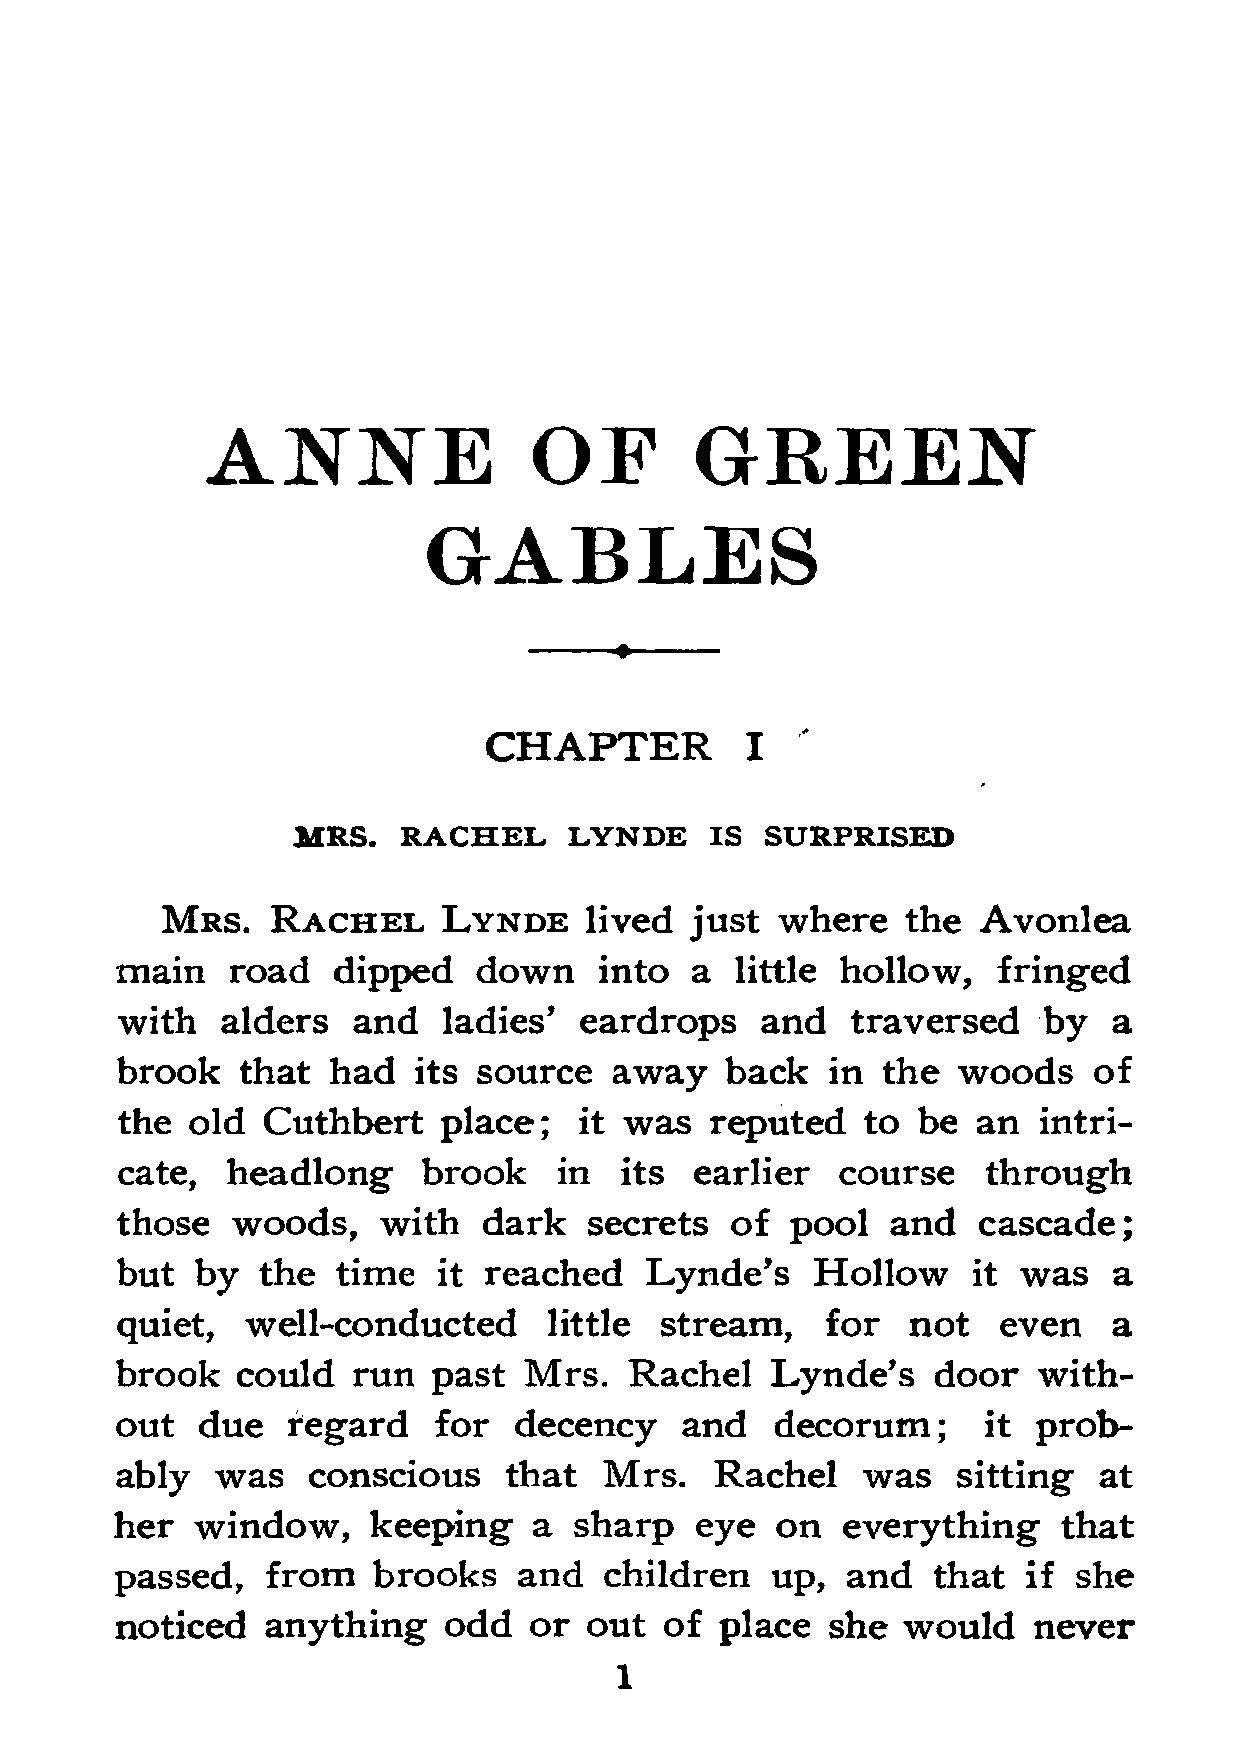chapter: (203, 420, 1037, 589), (289, 726, 958, 852)
content: (111, 898, 1137, 1649)
content_pagenumber: (608, 1657, 637, 1698)
